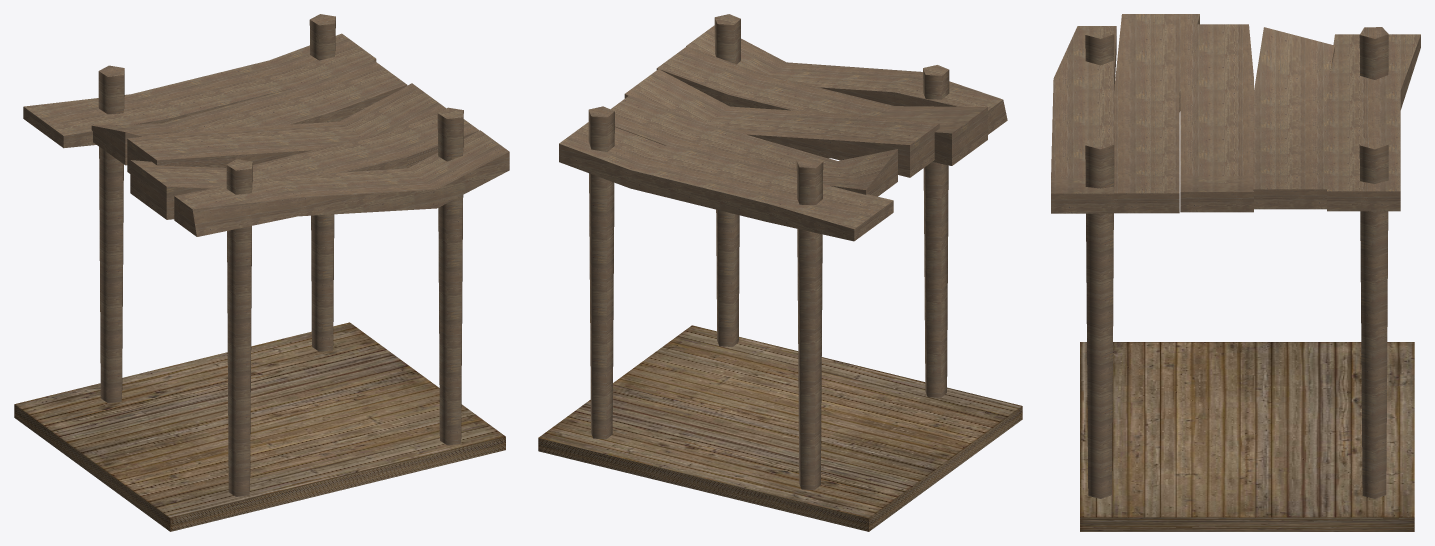
The model's file is OU_AR_Pergola_House_05_D.fbx.
3 renders of one model, left to right at view 1: azimuth 30°, elevation 25°; view 2: azimuth 150°, elevation 25°; view 3: azimuth 270°, elevation 25°, orthographic. The views are drawn at different scales.
Parts seen in each view (by area): view 1: Box1671; view 2: Box1671; view 3: Box1671.
Boxes of the visible parts, left/top/right/bottom form: Box1671: left=14, top=14, right=509, bottom=531; Box1671: left=538, top=14, right=1022, bottom=531; Box1671: left=1051, top=14, right=1420, bottom=531.
Size of the model in its own units: 367 by 357 by 327.
3 materials, 3 textured.
